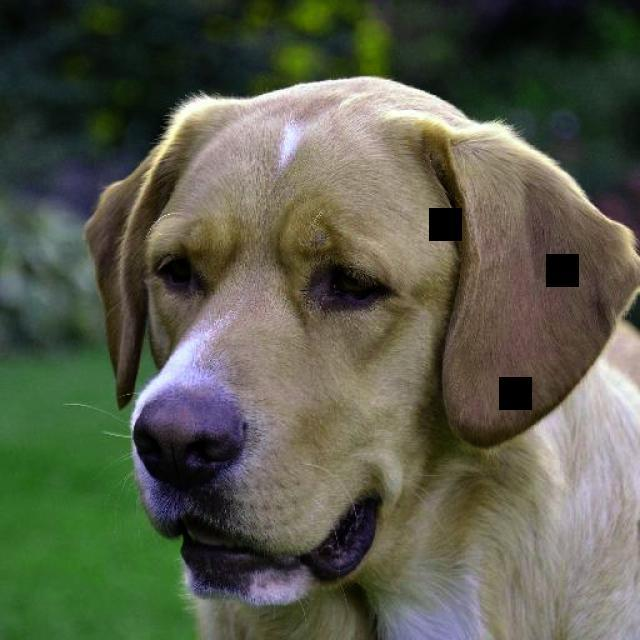adult_dog: (85, 74, 640, 640)
